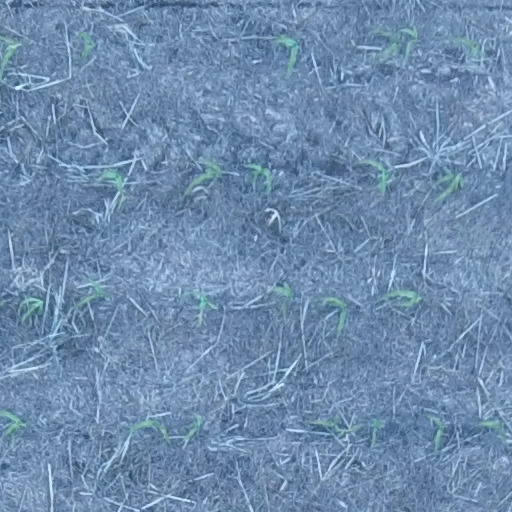planta: (183, 156, 224, 195), (317, 295, 348, 334), (272, 35, 299, 74), (308, 416, 360, 436), (364, 157, 391, 193), (435, 172, 466, 202), (98, 168, 126, 200), (128, 418, 168, 440), (76, 280, 108, 307), (374, 30, 401, 61), (246, 161, 273, 192), (383, 288, 421, 308), (269, 283, 293, 314), (398, 26, 419, 60), (20, 295, 46, 319), (452, 36, 482, 56), (198, 292, 215, 325), (478, 420, 506, 440), (429, 416, 446, 448), (183, 416, 203, 441), (78, 32, 96, 59), (370, 419, 385, 444)
